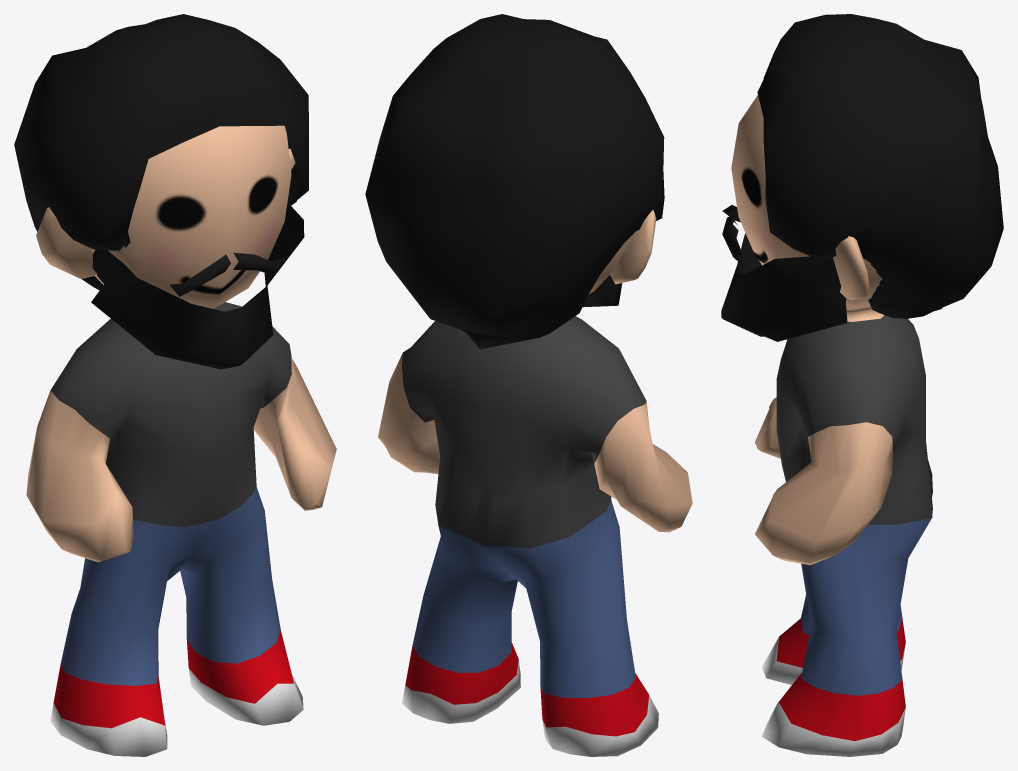
Rendered from DuenoGasolinera.fbx.
3 renders of one model, left to right at view 1: azimuth 30°, elevation 25°; view 2: azimuth 150°, elevation 25°; view 3: azimuth 270°, elevation 25°, orthographic. The views are drawn at different scales.
Visible parts, largest first — view 1: Cube.013; view 2: Cube.013; view 3: Cube.013.
Part boxes in pixels (left/top/right/bottom): Cube.013: left=14, top=14, right=336, bottom=756; Cube.013: left=365, top=14, right=692, bottom=756; Cube.013: left=721, top=14, right=1003, bottom=756.
Bounding box in the file's own units: 89.96 × 198 × 75.53.
